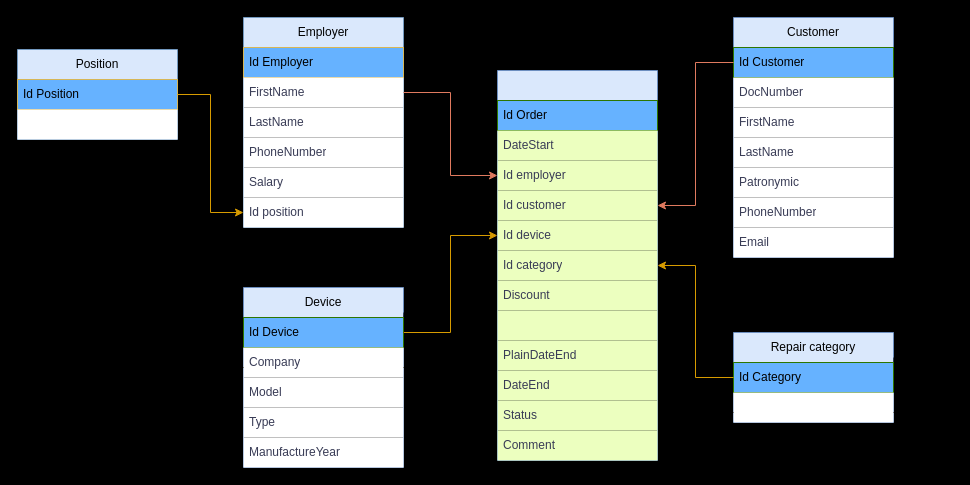
Image size: 970x485. Some labels were removed from this diagram. The box of each missing label's shape, as (x1, y1, x2, y2) in pixels:
Category: (733, 392, 893, 422)
EmployerPosition: (17, 109, 177, 139)
Repair order list: (496, 70, 658, 460)
TotalCost: (497, 310, 657, 340)
